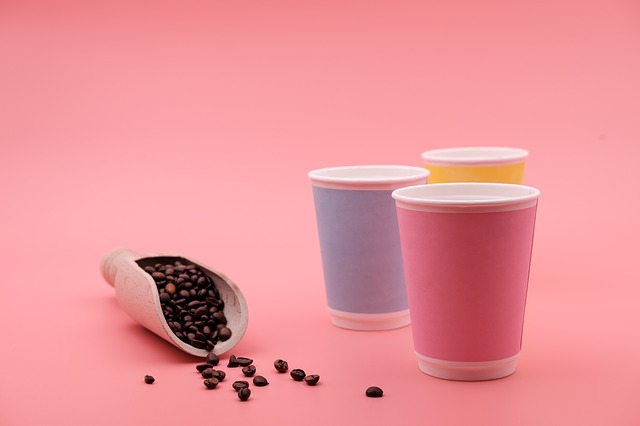cup: (394, 183, 561, 386), (299, 162, 396, 337), (420, 144, 534, 179)
